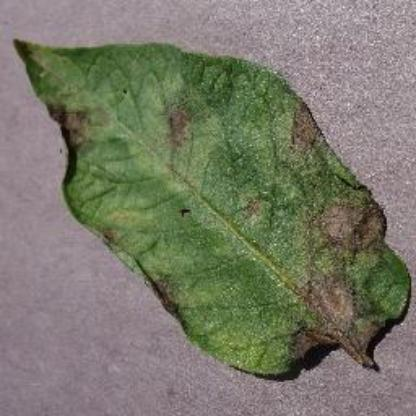Late-Blight: (9, 36, 409, 380)
